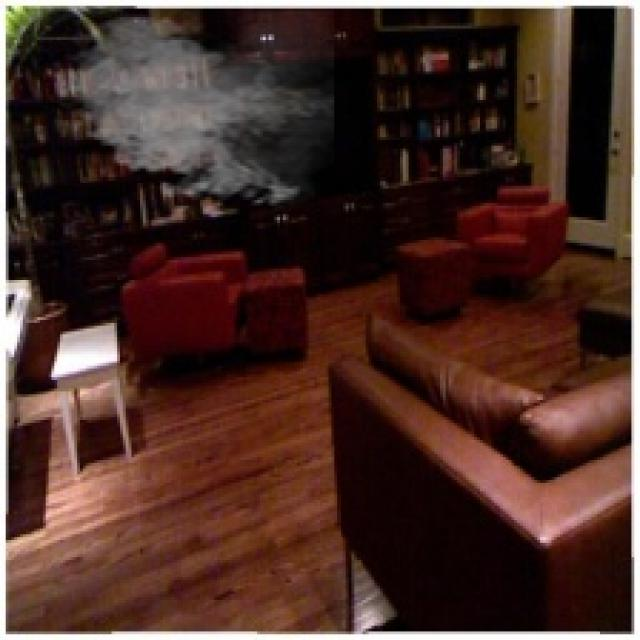smoke: (52, 8, 334, 212)
